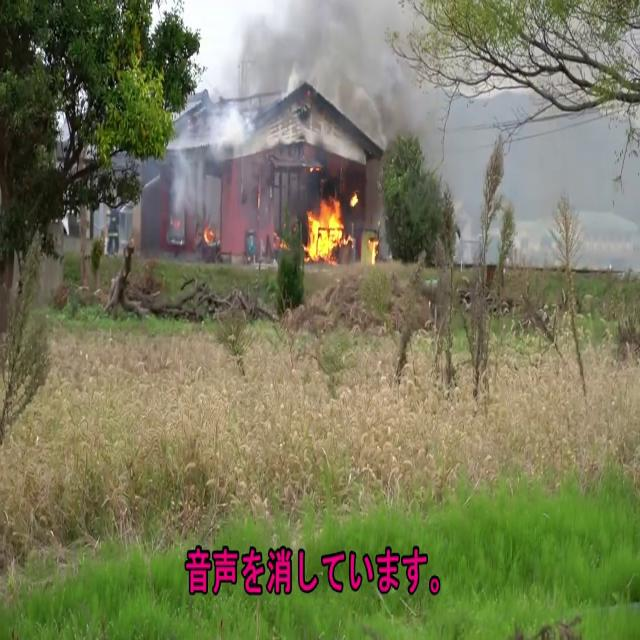Fire: (301, 187, 355, 262)
Smoke: (196, 0, 415, 149), (153, 51, 279, 250)
